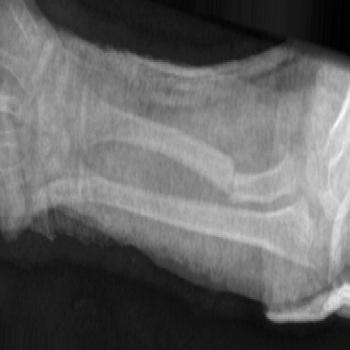Fracture: (224, 154, 242, 204)
